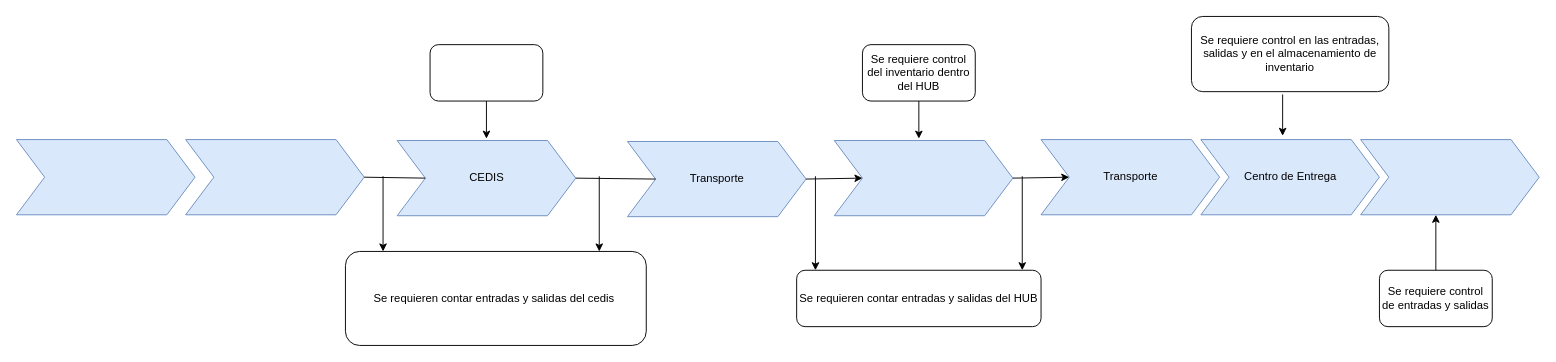
This 1556x362 diagram has some shape labels left out. Each missing label, with the centre of its shape:
"HUB" belongs at (923,178).
"Piso de Exhibicion" belongs at (1449,177).
"Proveedor" belongs at (105,177).
"Se requiere control del inventario dentro del cedis" belongs at (486,72).
"Transporte a Cedis" belongs at (274,177).
